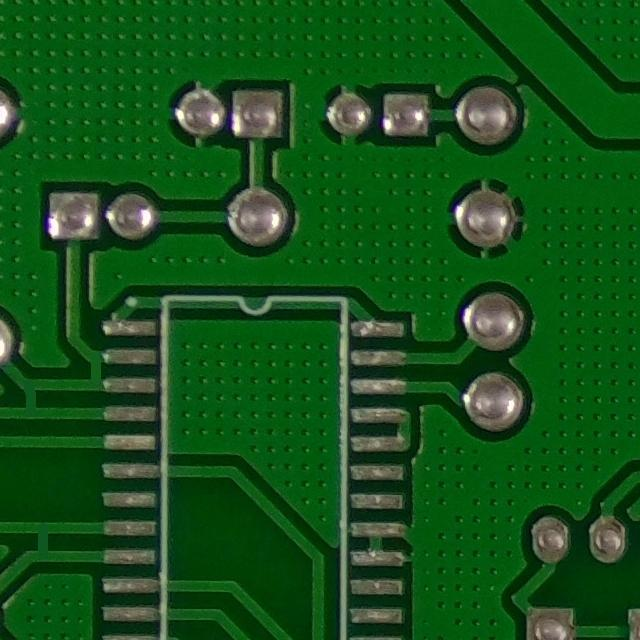short: (1, 363, 57, 426), (19, 511, 62, 569), (75, 347, 117, 389)
